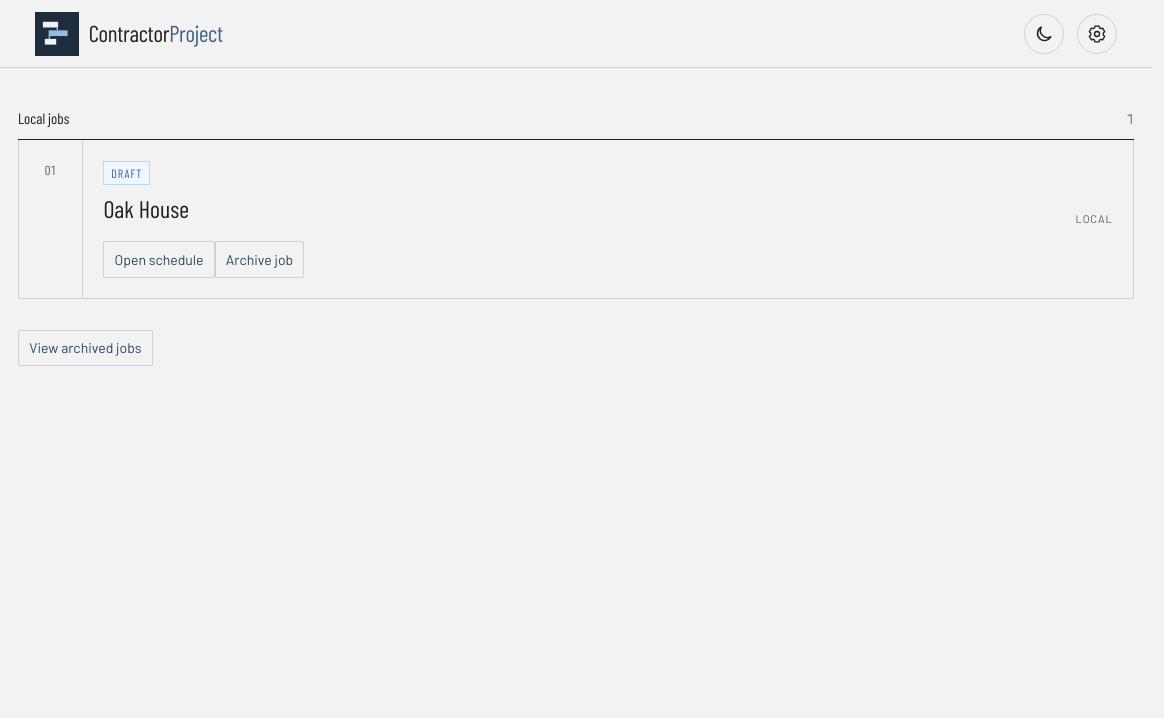
Test: workspace state guards › keeps the fallback-selected task when its first saved duration makes the Gantt computable
Click the button with aria-label "Open schedule for Oak House": (159, 259) [103,241,215,278]
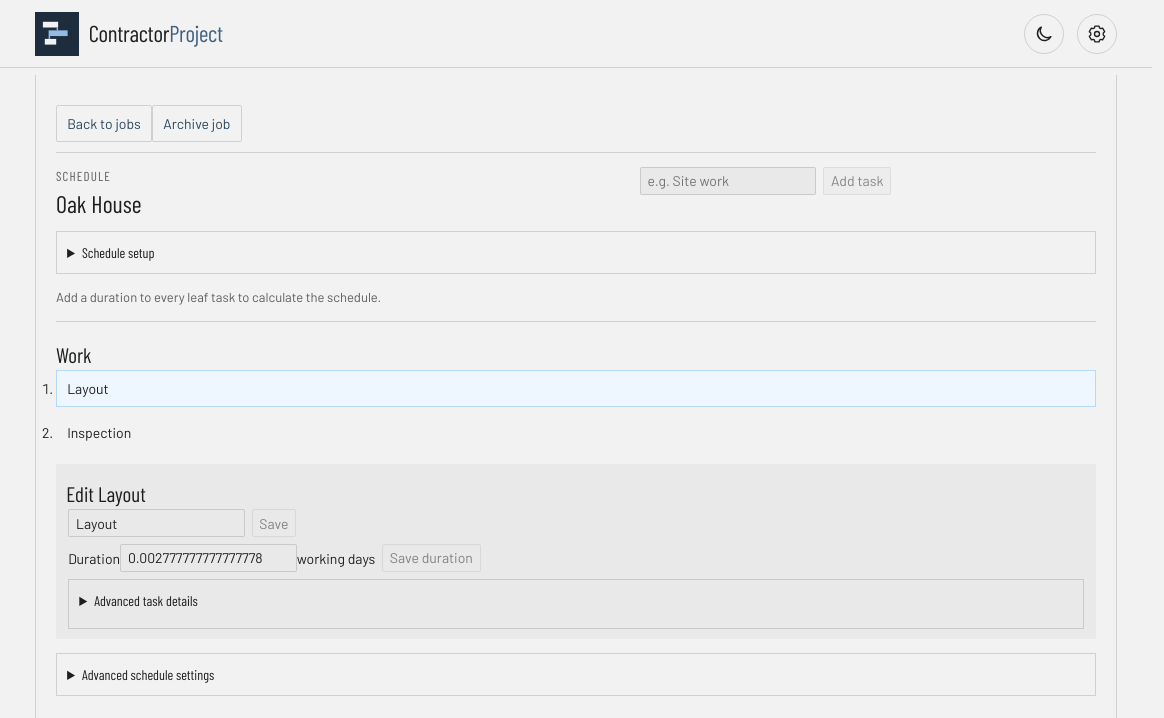
Click the button "Inspection": (99, 432) [56,414,1096,450]
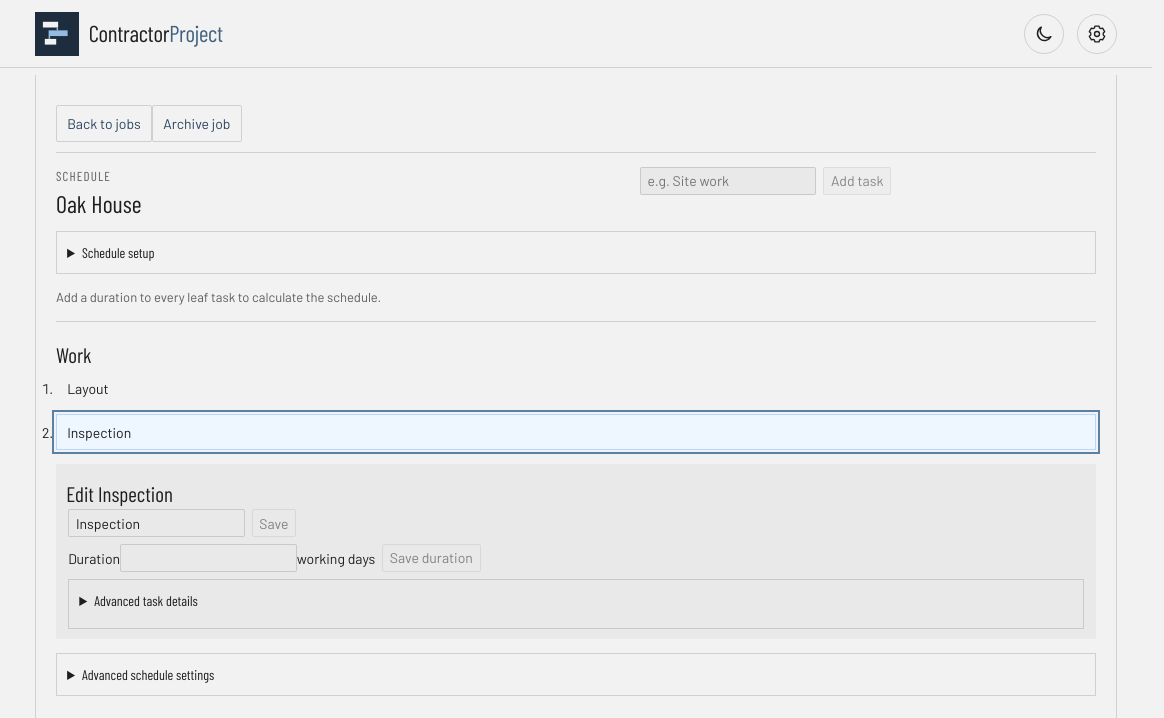
Check: the heading "Edit Inspection" is shown, box [66,480,173,506]
In the number field named "Duration for Inspection": (208, 558) [120,544,297,572], type "1"
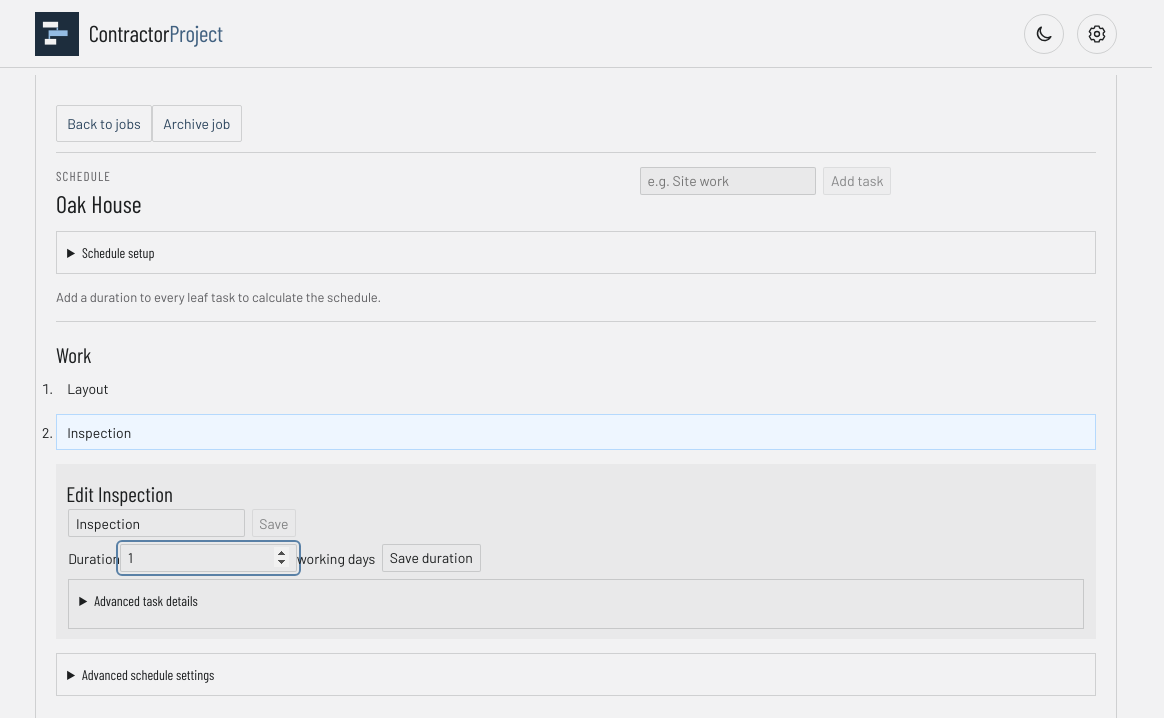
Click the button "Save duration": (431, 558) [382,544,481,572]
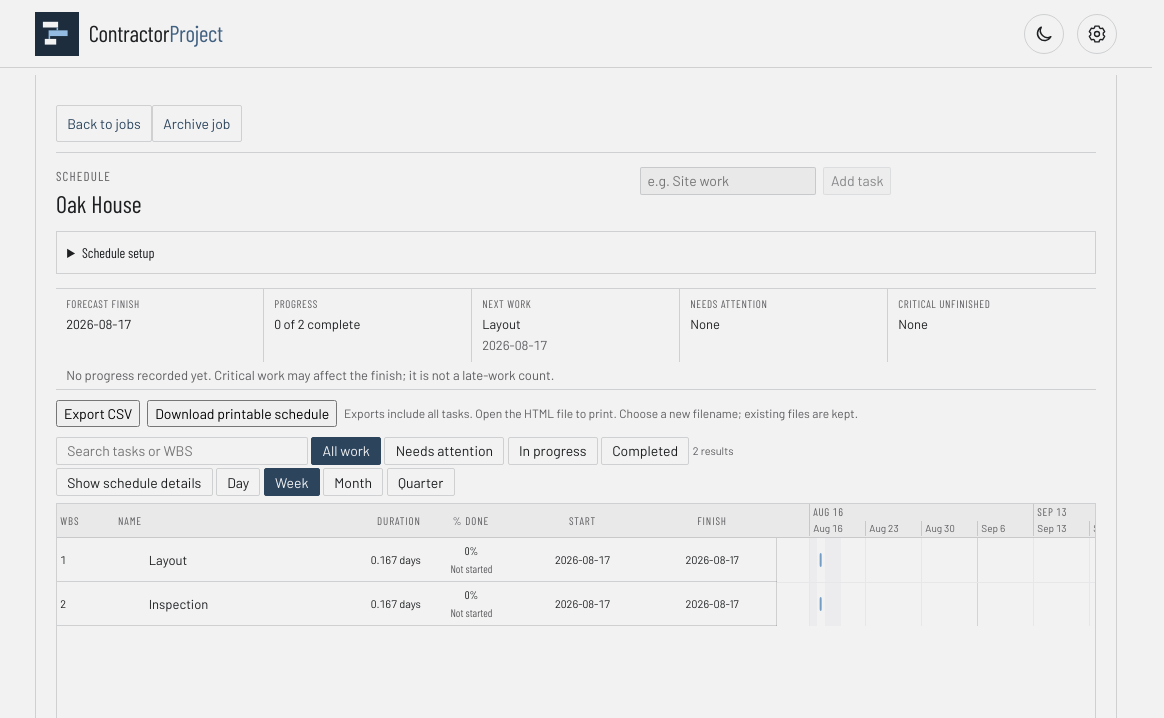
Check: the table named "Schedule for Oak House" is shown, box [57,504,777,626]
